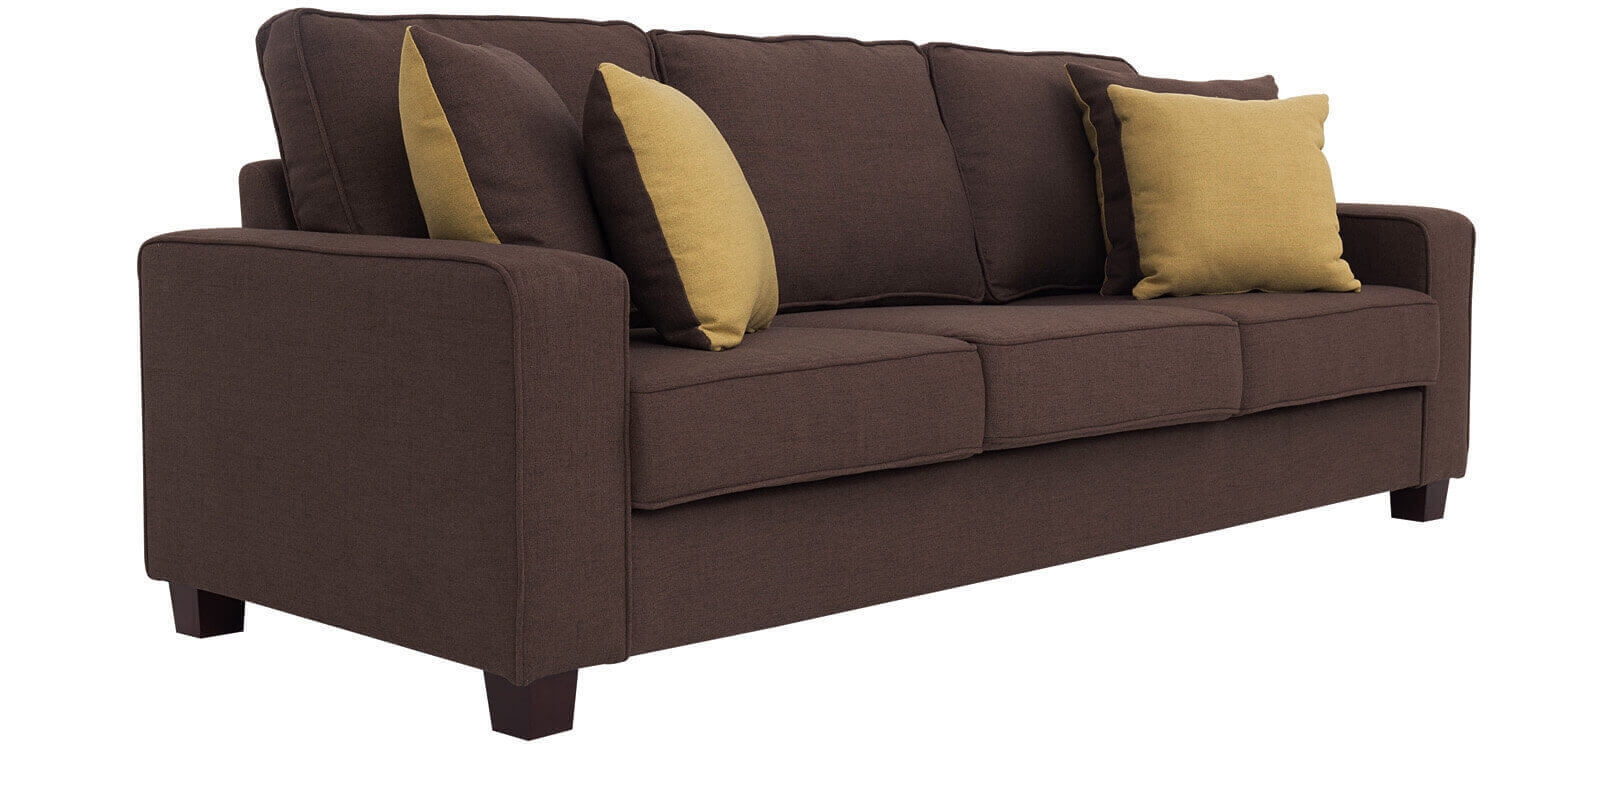Castilla Three Seater Sofa in Brown Colour by CasaCraft: (111, 4, 1494, 730)
